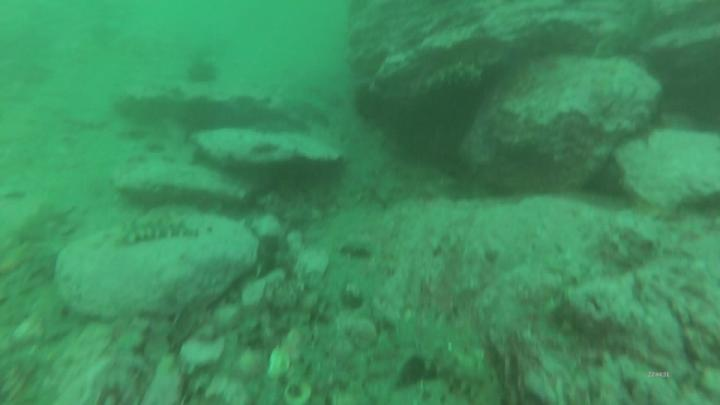echinus: (185, 52, 223, 91)
holothurian: (407, 312, 507, 405), (592, 1, 660, 62), (111, 211, 207, 250), (418, 65, 487, 97)
